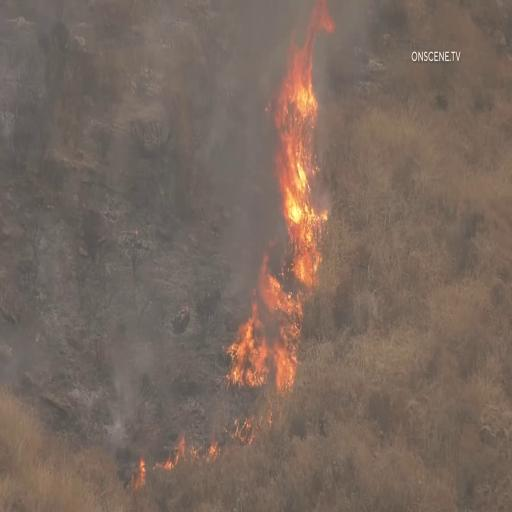fire: (287, 60, 344, 295), (241, 228, 301, 403)
